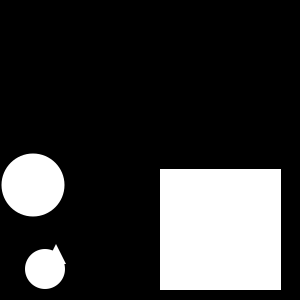circle: (160, 169, 281, 290)
rectangle: (2, 154, 64, 216), (25, 249, 65, 289)
triangle: (46, 244, 66, 264)
